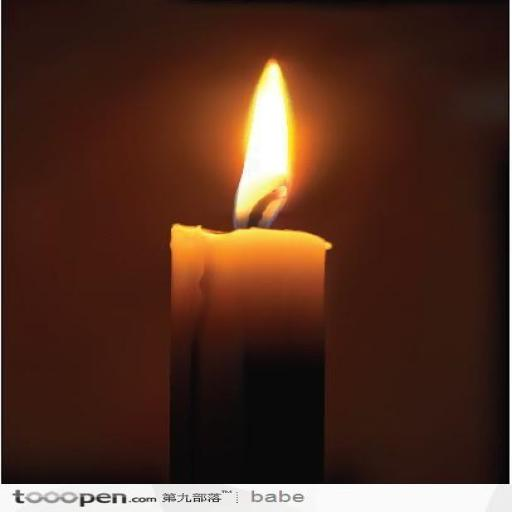fire: (183, 41, 357, 251)
